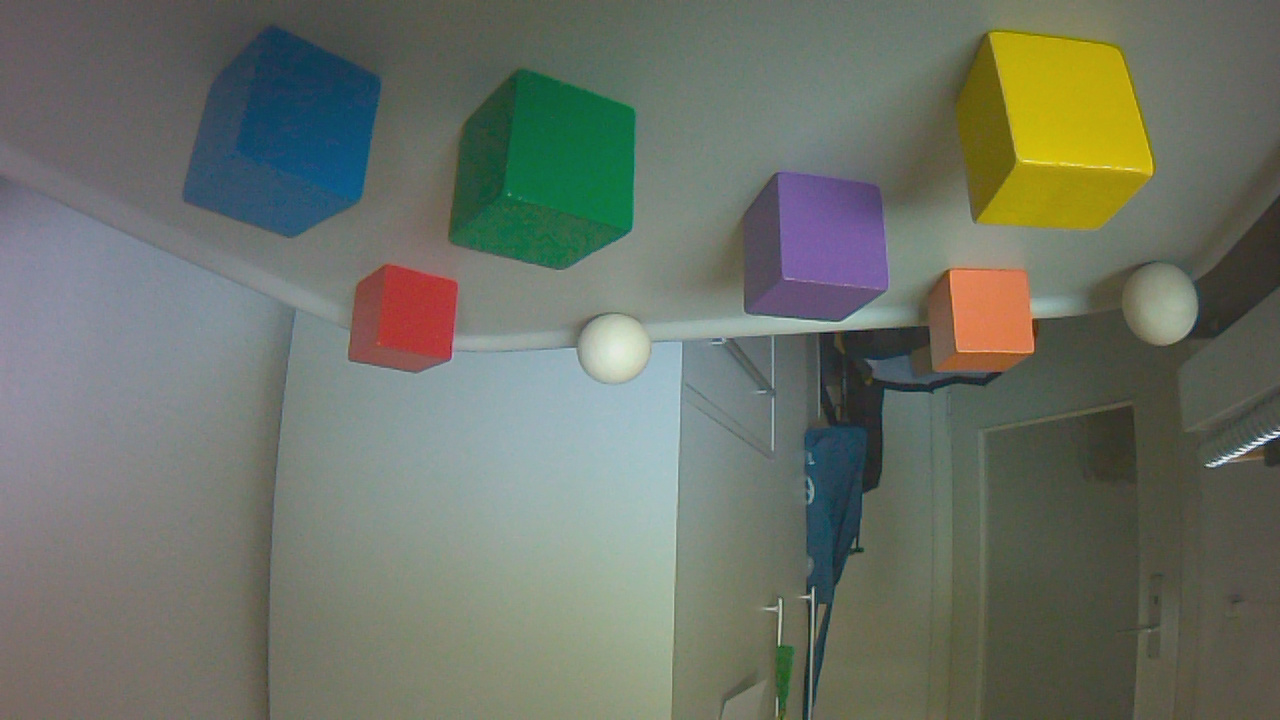ball: (1125, 264, 1205, 353), (579, 316, 657, 392)
cube_blue: (185, 27, 388, 248)
cube_green: (451, 71, 644, 279)
cube_orange: (930, 270, 1039, 378)
cube_purple: (745, 175, 896, 329)
cube_red: (351, 268, 466, 381)
cube_yellow: (956, 33, 1159, 238)
